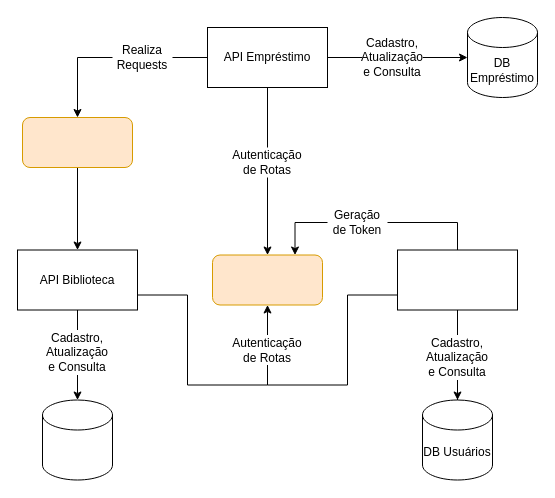
This 555x498 diagram has some shape labels left out. Here are the shapes that lost their labels. From the top down, the centre of each, then its label:
the point at 77,142: OpenFeign
the point at 267,279: Autenticação Usuário (OAuth 2.0 e JWT)
the point at 457,279: API Usuário
the point at 77,439: DB Livros
